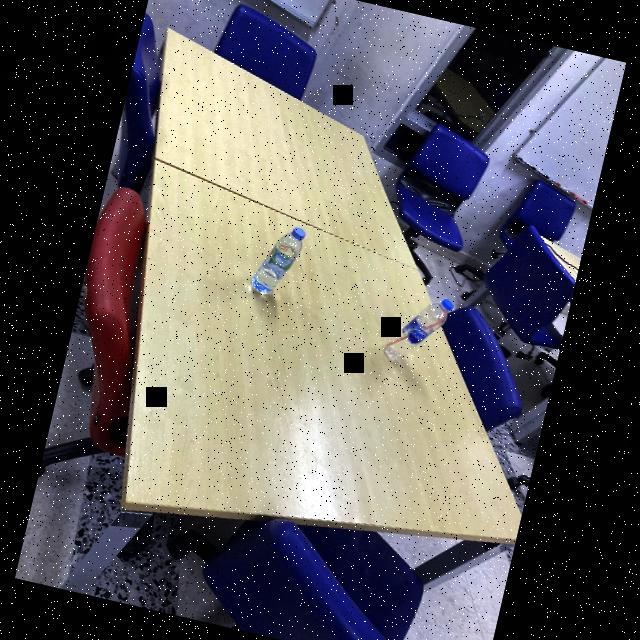plastic_bottle: (378, 285, 454, 375), (248, 220, 308, 304)
